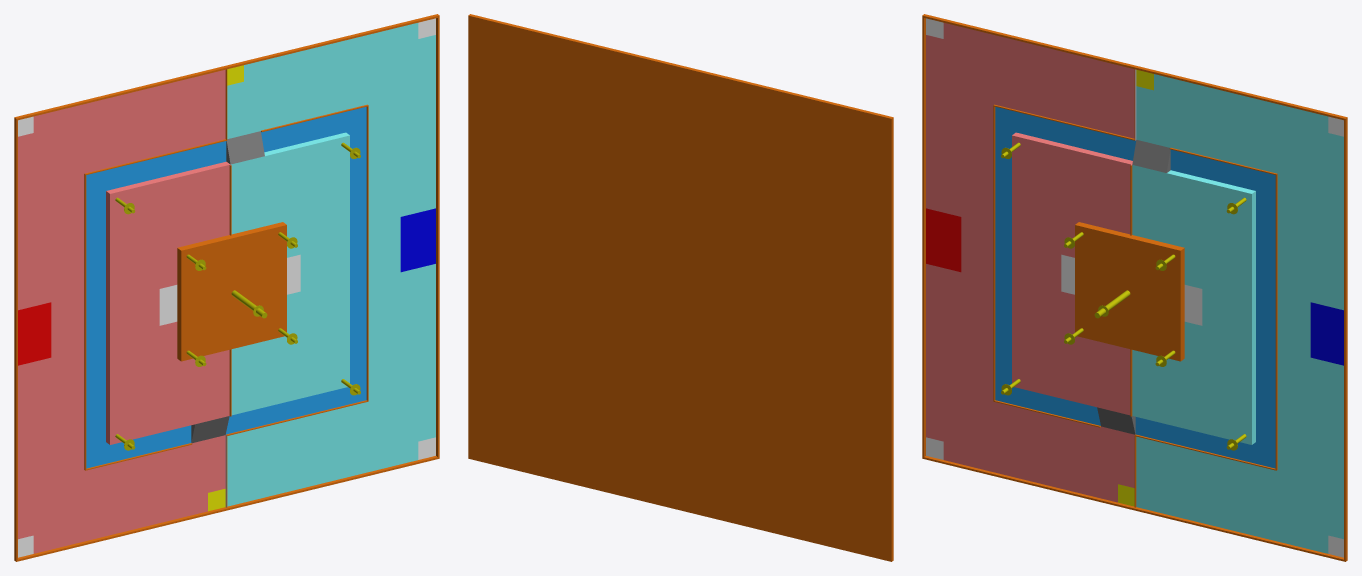
The model's file is field_NHK.dae.
3 renders of one model, left to right at view 1: azimuth 30°, elevation 25°; view 2: azimuth 150°, elevation 25°; view 3: azimuth 330°, elevation 25°, orthographic.
Visible parts, largest first — view 1: _ncl1_4, field_NHK, _ncl1_16, _ncl1_12, _ncl1_8, _ncl1_10, _ncl1_18, _ncl1_20, _ncl1_14, _ncl1_2; view 2: _ncl1_16; view 3: field_NHK, _ncl1_4, _ncl1_16, _ncl1_12, _ncl1_8, _ncl1_18, _ncl1_10, _ncl1_20, _ncl1_14, _ncl1_2.
Part boxes in pixels (<box>): _ncl1_4: <box>18,69,230,553</box>; field_NHK: <box>227,23,435,506</box>; _ncl1_16: <box>14,14,439,561</box>; _ncl1_12: <box>86,107,366,468</box>; _ncl1_8: <box>18,18,435,557</box>; _ncl1_10: <box>400,208,435,272</box>; _ncl1_18: <box>18,302,51,365</box>; _ncl1_20: <box>191,131,264,443</box>; _ncl1_14: <box>115,142,360,450</box>; _ncl1_2: <box>208,65,243,511</box>; _ncl1_16: <box>468,14,893,561</box>; field_NHK: <box>1132,74,1343,553</box>; _ncl1_4: <box>926,23,1134,502</box>; _ncl1_16: <box>922,14,1347,561</box>; _ncl1_12: <box>995,107,1275,468</box>; _ncl1_8: <box>926,18,1343,557</box>; _ncl1_18: <box>926,208,961,272</box>; _ncl1_10: <box>1310,302,1343,365</box>; _ncl1_20: <box>1097,139,1170,434</box>; _ncl1_14: <box>1001,142,1246,450</box>; _ncl1_2: <box>1118,69,1153,506</box>.
Size of the model in its own units: 12 by 12 by 1.9.
